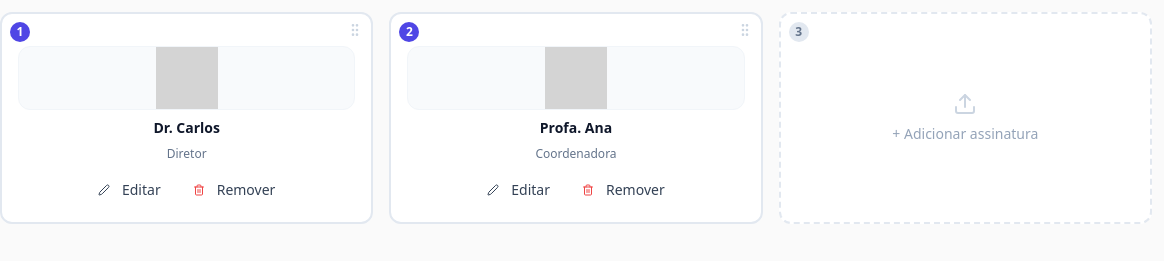
Test: SignatureManager › slot vazio mostra formulário ao clicar
The image size is (1164, 261).
Step 1. Click the text "+ Adicionar assinatura" → point(965, 134), box [892,124,1038,144]
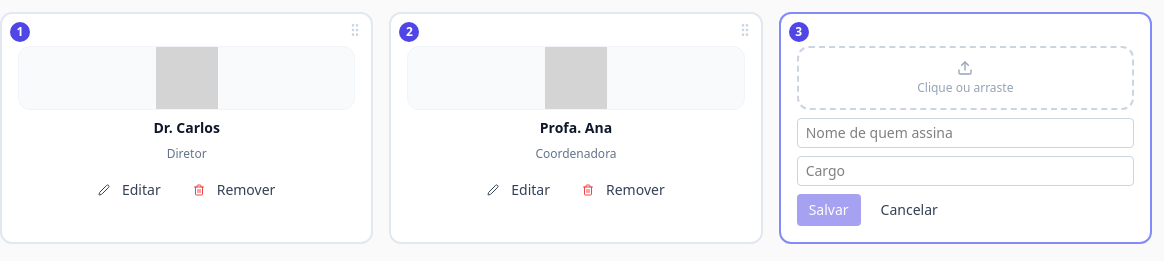
Now the field with placeholder "Nome de quem assina" is shown, box [797,118,1134,148]
Now the field with placeholder "Cargo" is shown, box [797,156,1134,186]
